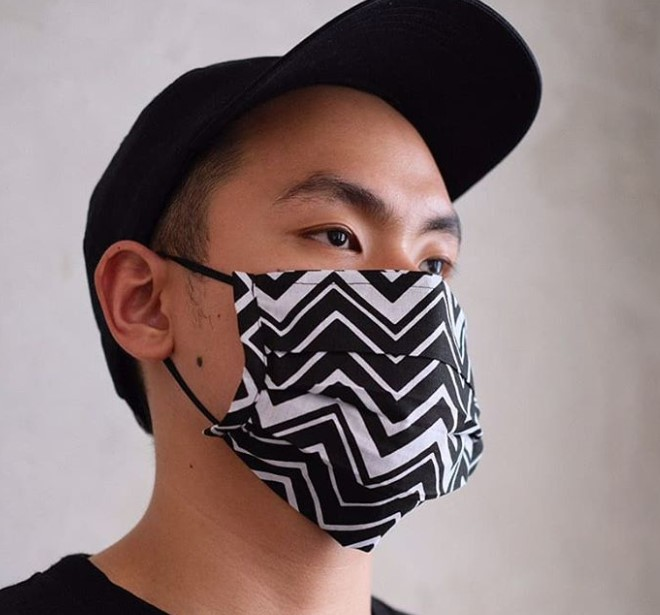face_with_mask: (83, 16, 506, 559)
